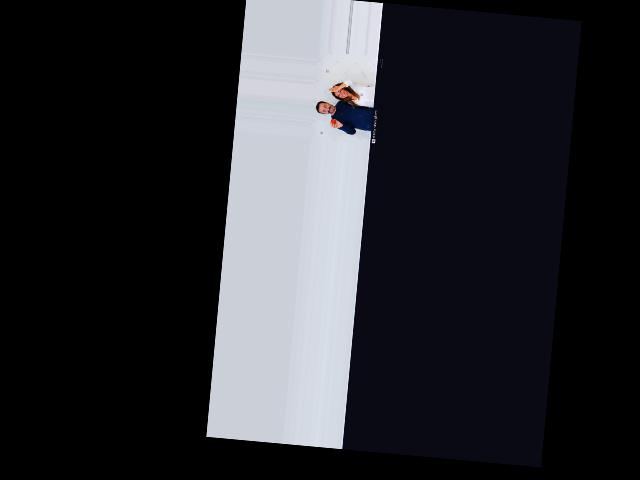tomato: (330, 118, 335, 123)
